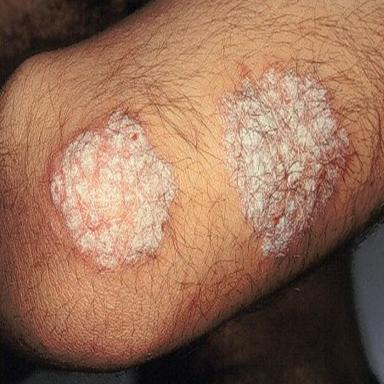Psoriasis: (219, 68, 349, 255), (50, 112, 176, 268)
